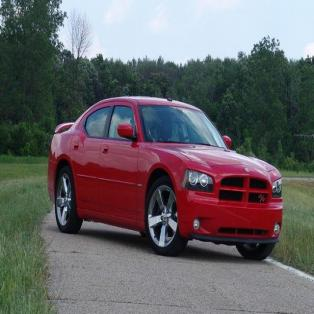Auto: (46, 93, 285, 263)
